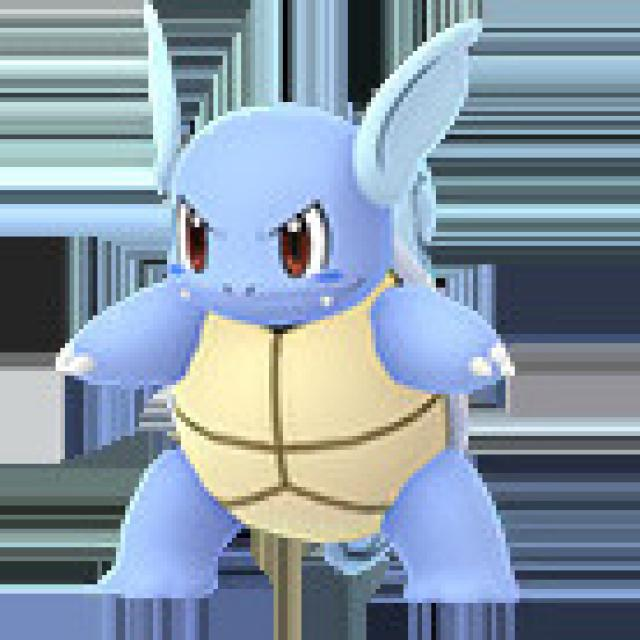Wartortle: (133, 0, 479, 608)
